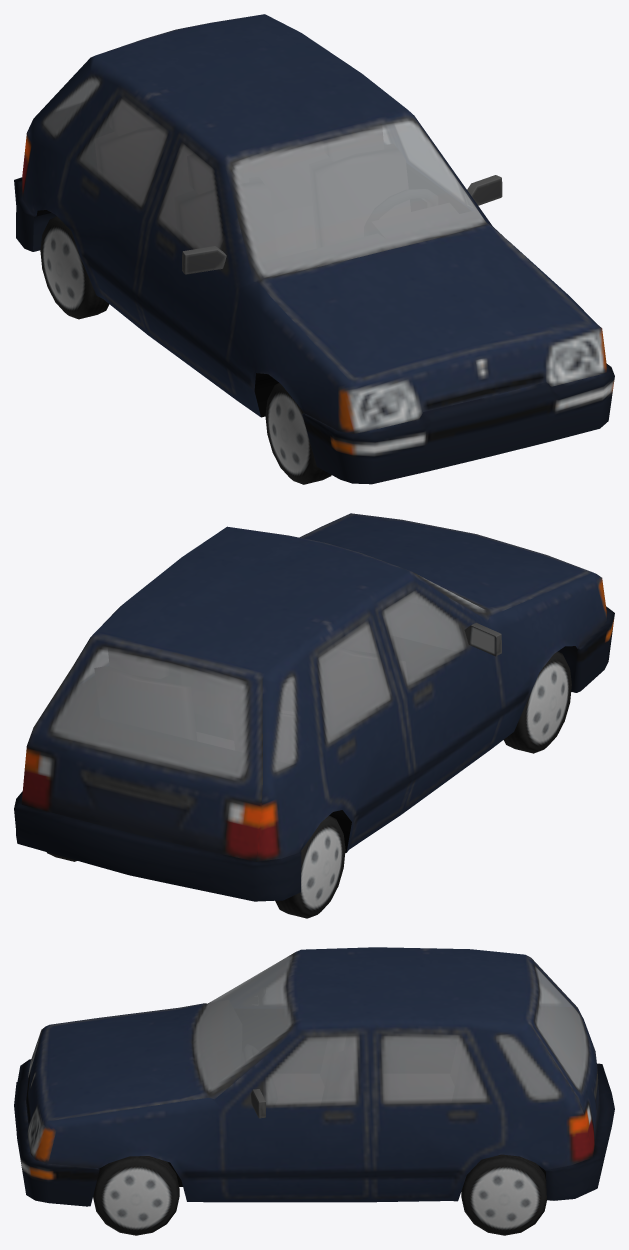
Rendered from car-hatchback.glb.
The picture shows the model from 3 angles, top to bottom: view 1: azimuth 30°, elevation 25°; view 2: azimuth 150°, elevation 25°; view 3: azimuth 270°, elevation 25°; orthographic projection. The views are drawn at different scales.
Visible parts, largest first — view 1: o_car_1_low2, polySurface48, o_wheel_low1, o_wheel_low2, mirror2, mirror1; view 2: o_car_1_low2, polySurface48, o_wheel_low1, o_wheel_low2, mirror2; view 3: o_car_1_low2, polySurface48, o_wheel_low1, o_wheel_low2.
Part boxes in pixels (<box>): o_car_1_low2: <box>14,14,614,484</box>; polySurface48: <box>44,101,483,274</box>; o_wheel_low1: <box>40,216,109,319</box>; o_wheel_low2: <box>265,383,331,484</box>; mirror2: <box>182,246,226,274</box>; mirror1: <box>465,175,502,207</box>; o_car_1_low2: <box>14,513,614,901</box>; polySurface48: <box>54,594,482,776</box>; o_wheel_low1: <box>46,815,345,918</box>; o_wheel_low2: <box>504,651,571,753</box>; mirror2: <box>464,623,501,656</box>; o_car_1_low2: <box>14,947,614,1206</box>; polySurface48: <box>195,1000,586,1104</box>; o_wheel_low1: <box>461,1154,546,1235</box>; o_wheel_low2: <box>93,1156,179,1235</box>.
Size of the model in its own units: 305 by 229 by 611.
Materials: 1 (1 with a texture image).
